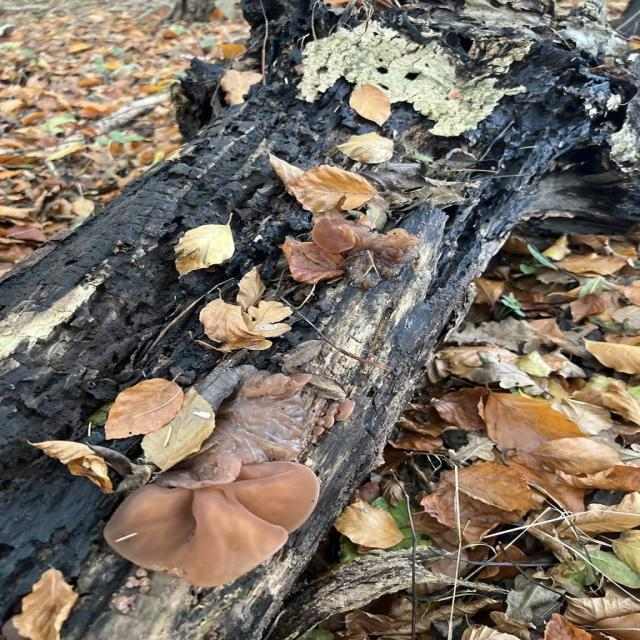Fase Muda: (144, 366, 314, 493)
Matang: (96, 456, 331, 591)
